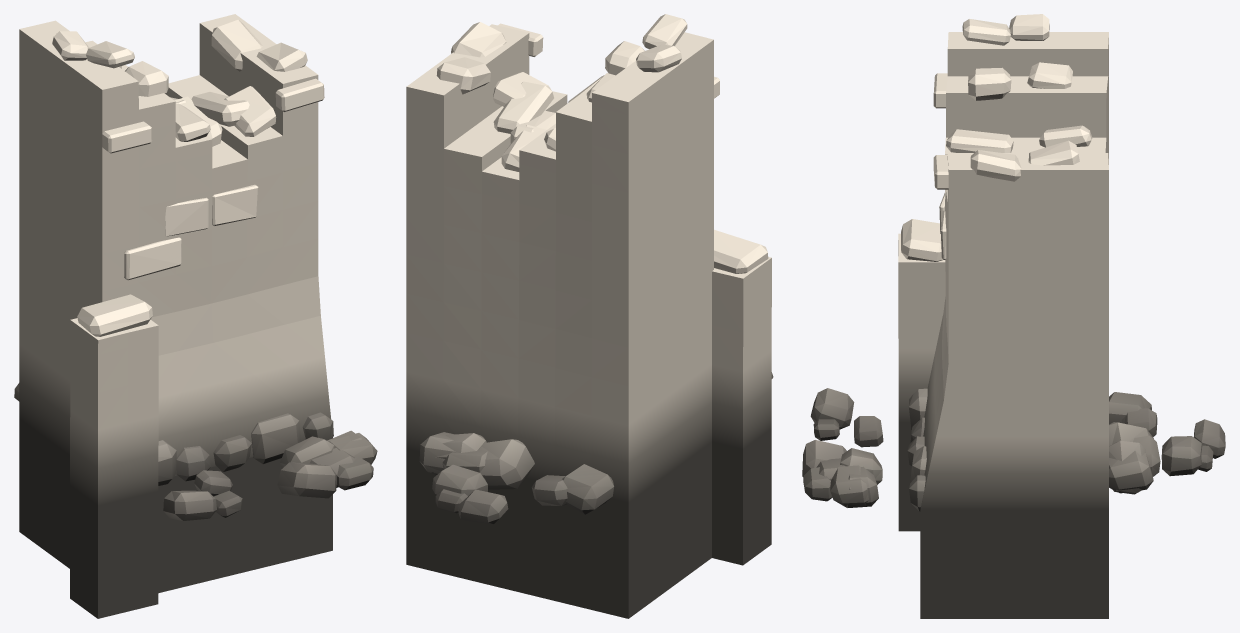
File: SM_VK_TownWall_Ruin.fbx
3 views of the same model, side by side, from view 1: azimuth 30°, elevation 25°; view 2: azimuth 150°, elevation 25°; view 3: azimuth 270°, elevation 25° (orthographic). The views are drawn at different scales.
Parts seen in each view (by area): view 1: SM_VK_TownWall_Ruin.001; view 2: SM_VK_TownWall_Ruin.001; view 3: SM_VK_TownWall_Ruin.001.
Boxes of the visible parts, x1,y1,x2,y2 form: SM_VK_TownWall_Ruin.001: [14, 14, 377, 618]; SM_VK_TownWall_Ruin.001: [406, 14, 773, 618]; SM_VK_TownWall_Ruin.001: [802, 14, 1225, 618].
Size of the model in its own units: 3.53 by 6.99 by 5.28.
